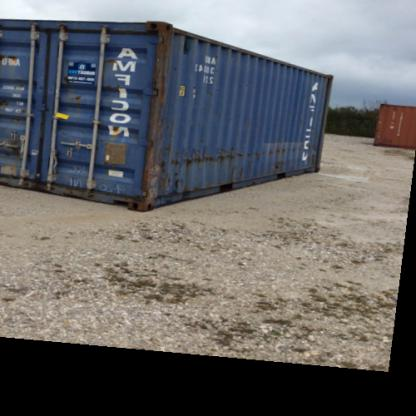Damage: (158, 134, 311, 163), (148, 23, 174, 104), (130, 168, 182, 198), (100, 49, 122, 78), (8, 132, 27, 165), (66, 86, 82, 104)
